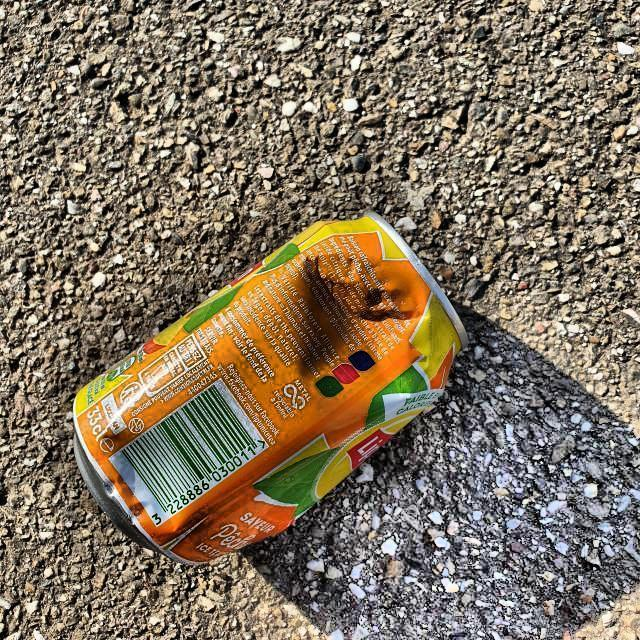metal: (73, 214, 465, 567)
